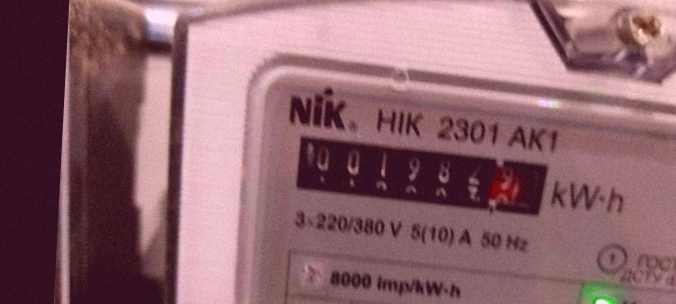0: (343, 146, 362, 176), (313, 141, 331, 171)
1: (375, 148, 389, 177)
2: (465, 155, 484, 185)
8: (435, 155, 452, 183)
9: (496, 163, 517, 192), (404, 152, 420, 182)
screen: (277, 120, 563, 230)
